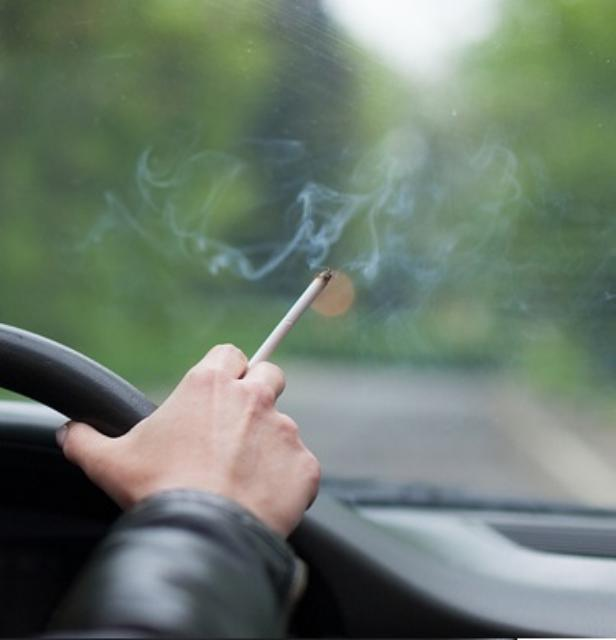Smoking: (242, 259, 338, 371)
